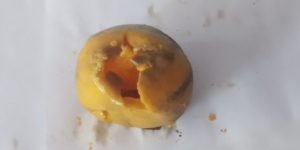BAD: (76, 23, 195, 131)
